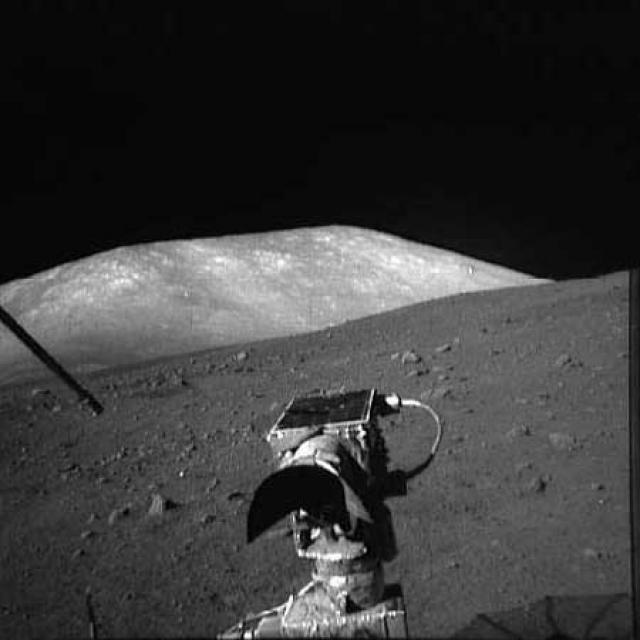artifact: (193, 370, 436, 640), (1, 299, 108, 429), (434, 590, 639, 639)
rock: (538, 418, 583, 459), (96, 495, 135, 531), (545, 345, 586, 378), (147, 489, 176, 523), (498, 417, 535, 440), (389, 344, 424, 366), (230, 348, 256, 364)
